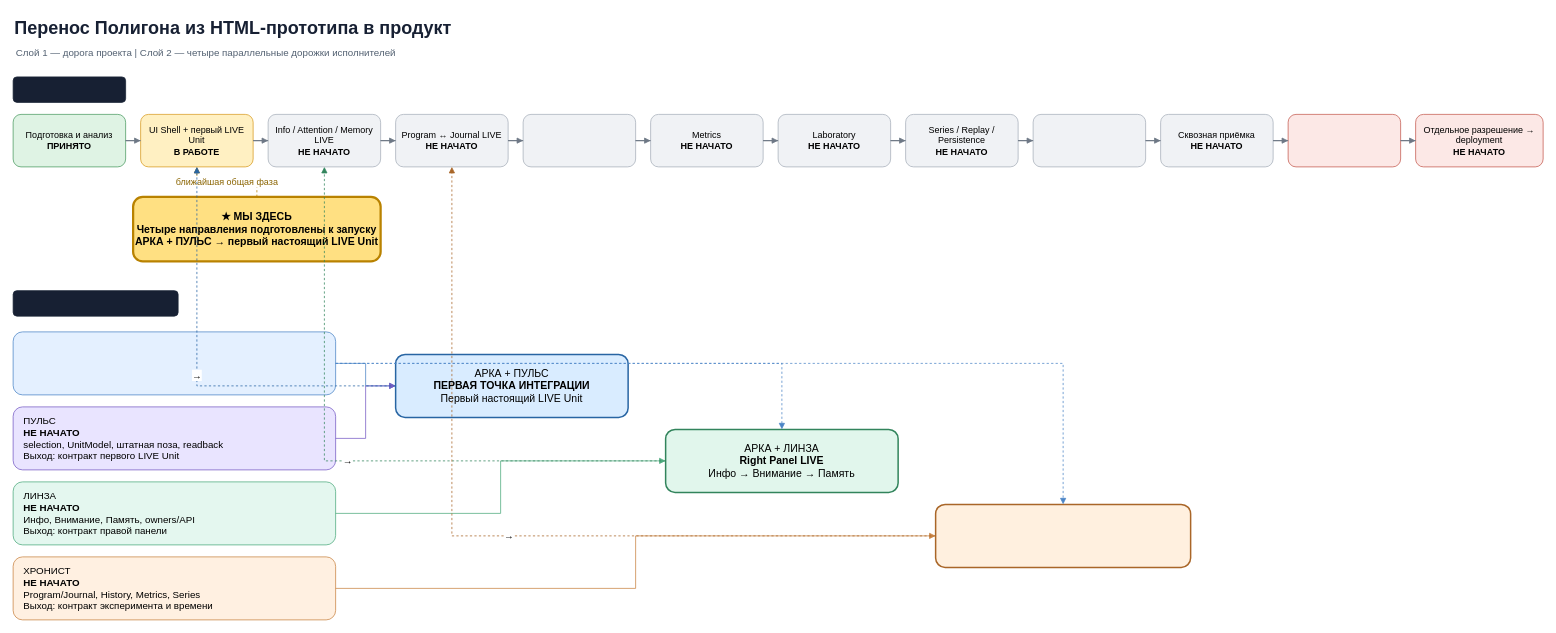
Some shapes in this 1556 by 633 pixel diagram are drawn without their labels. The centre of each missing label's shape, as x and y in pixels:
Full Save/Open + Unit Editor НЕ НАЧАТО: (x=1089, y=140)
GO → real-wargame-preview ЖДЁТ GO: (x=1344, y=140)
History / viewTime НЕ НАЧАТО: (x=579, y=140)
АРКА + ХРОНИСТ Program ↔ Journal LIVE → History → Metrics → Series: (x=1062, y=535)
АРКА НЕ НАЧАТО UI Shell, шапка, панели, вкладки Выход: узнаваемый пустой каркас: (x=174, y=363)
ДОРОГА ПРОЕКТА: (x=69, y=89)
ПАРАЛЛЕЛЬНЫЕ ДОРОЖКИ: (x=95, y=303)
